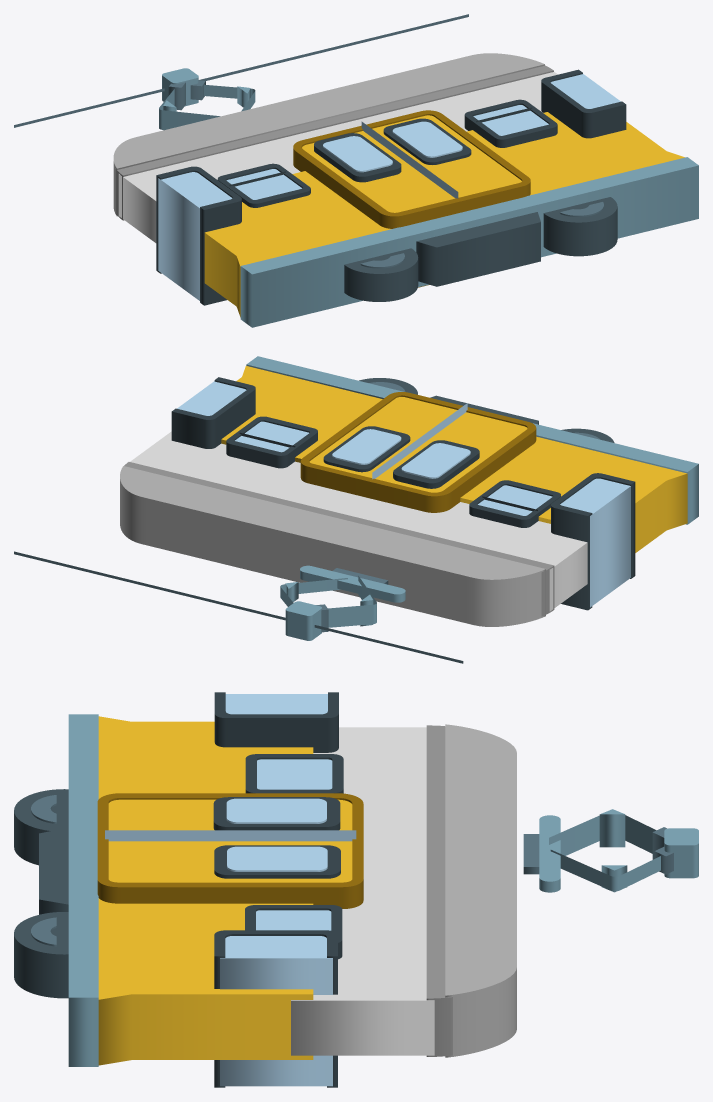
Rendered from emoji_u1f68b.glb.
3 renders of one model, top to bottom at view 1: azimuth 30°, elevation 25°; view 2: azimuth 150°, elevation 25°; view 3: azimuth 270°, elevation 25°, orthographic. The views are drawn at different scales.
Visible parts, largest first — view 1: emoji_u1f68b; view 2: emoji_u1f68b; view 3: emoji_u1f68b.
Boxes of the visible parts, x1,y1,x2,y2 form: emoji_u1f68b: (14, 14, 698, 327); emoji_u1f68b: (14, 356, 698, 663); emoji_u1f68b: (14, 692, 698, 1087).
Bounding box in the file's own units: 0.0339 × 0.0072 × 0.034.
